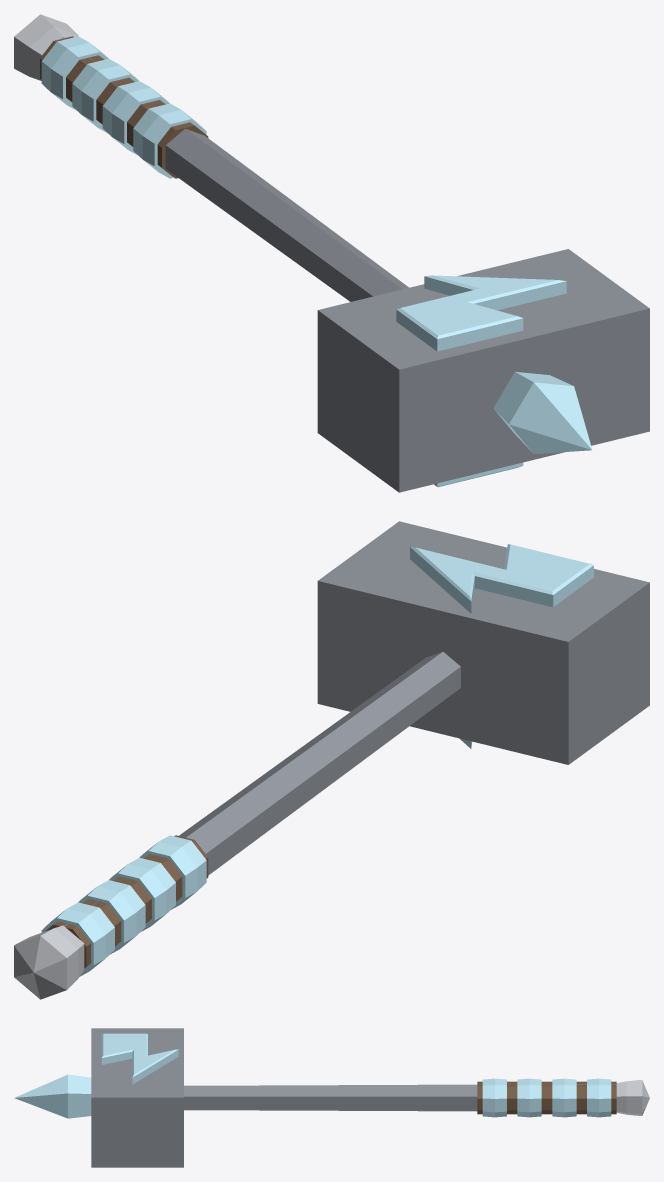
Rendered from thunderhead.glb.
The picture shows the model from 3 angles, top to bottom: view 1: azimuth 30°, elevation 25°; view 2: azimuth 150°, elevation 25°; view 3: azimuth 270°, elevation 25°; orthographic projection. The views are drawn at different scales.
Visible parts, largest first — view 1: thunderhead; view 2: thunderhead; view 3: thunderhead.
Boxes of the visible parts, x1,y1,x2,y2 form: thunderhead: [14, 14, 649, 492]; thunderhead: [14, 521, 649, 999]; thunderhead: [14, 1028, 649, 1167].
Size of the model in its own units: 0.32 by 0.1848 by 1.24.
